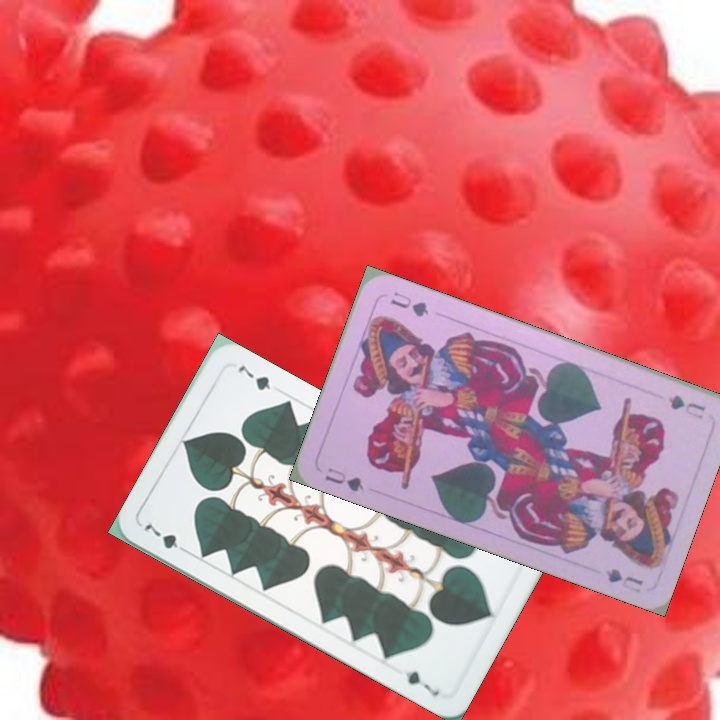G7: (140, 518, 192, 557)
GU: (320, 463, 366, 494), (664, 391, 708, 422)
